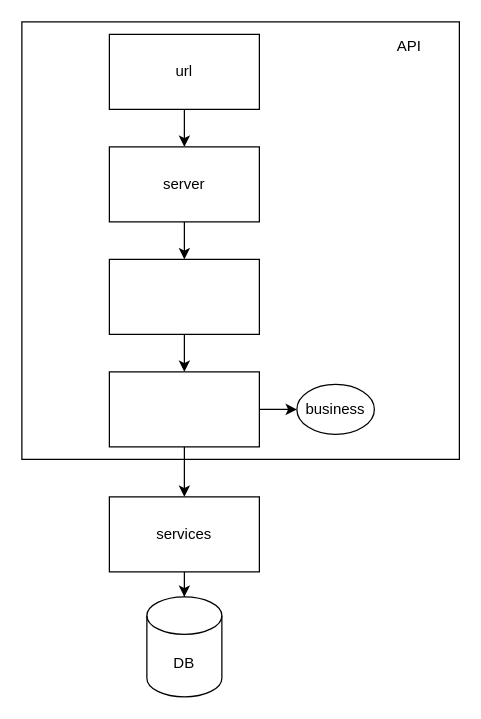
Image size: 481x719. Some labels were removed from this diagram. The shapes that lost their labels are listed below. From the top down, each one's centre as x and y in pixels, then its label:
At pixel 183 296: "routers".
At pixel 183 409: "controllers".
